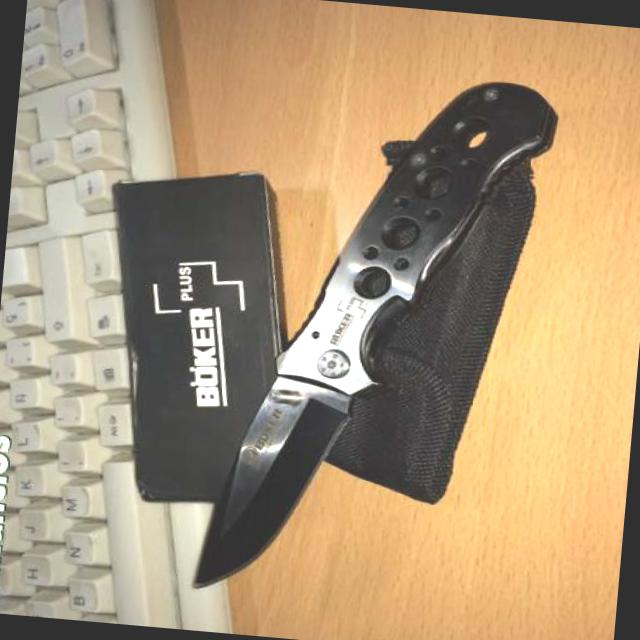knife: (180, 334, 388, 616)
